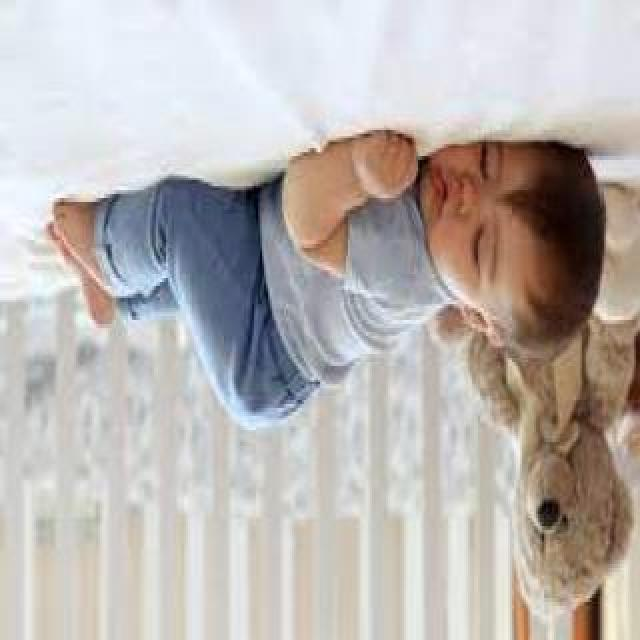baby: (52, 126, 608, 426)
